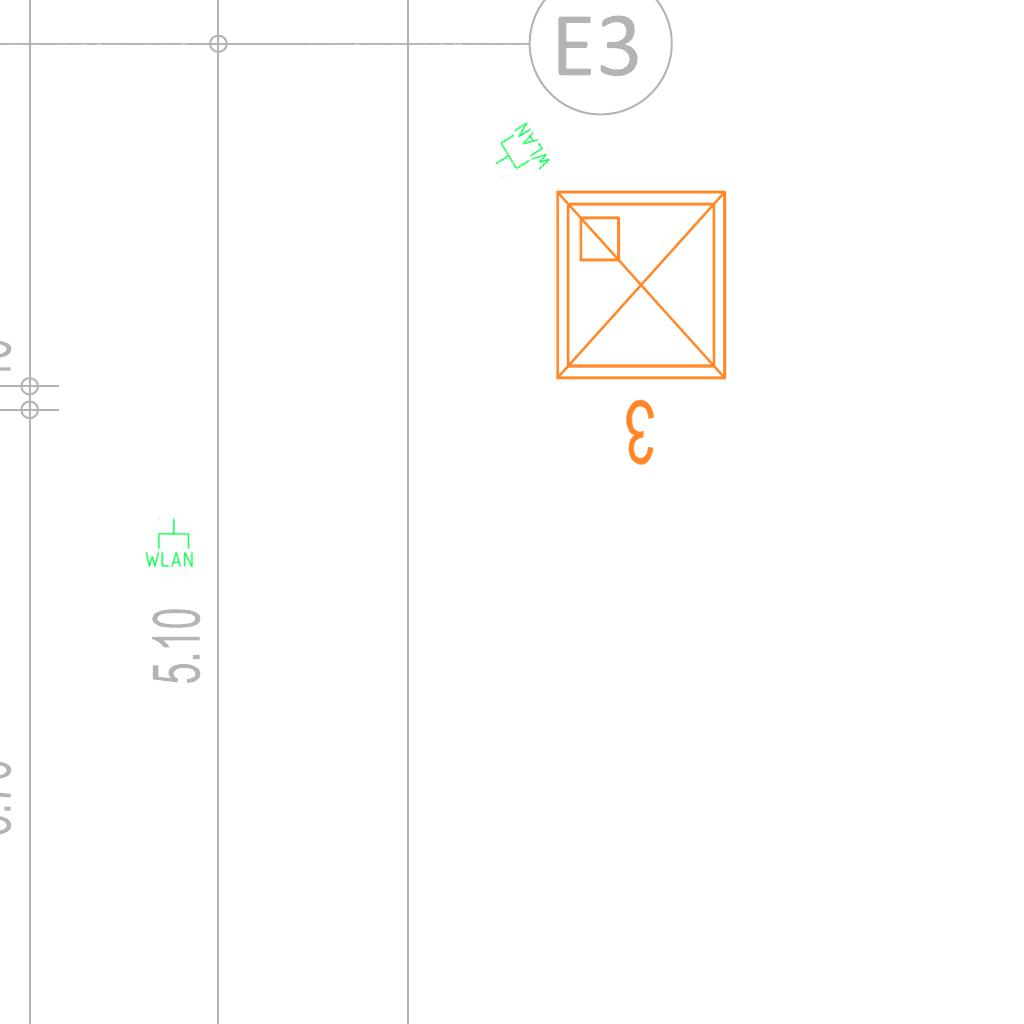Einbaudownlights_LED_Konferenzraeume: (541, 176, 749, 476)
WLAN: (483, 119, 555, 191), (143, 517, 195, 569)
